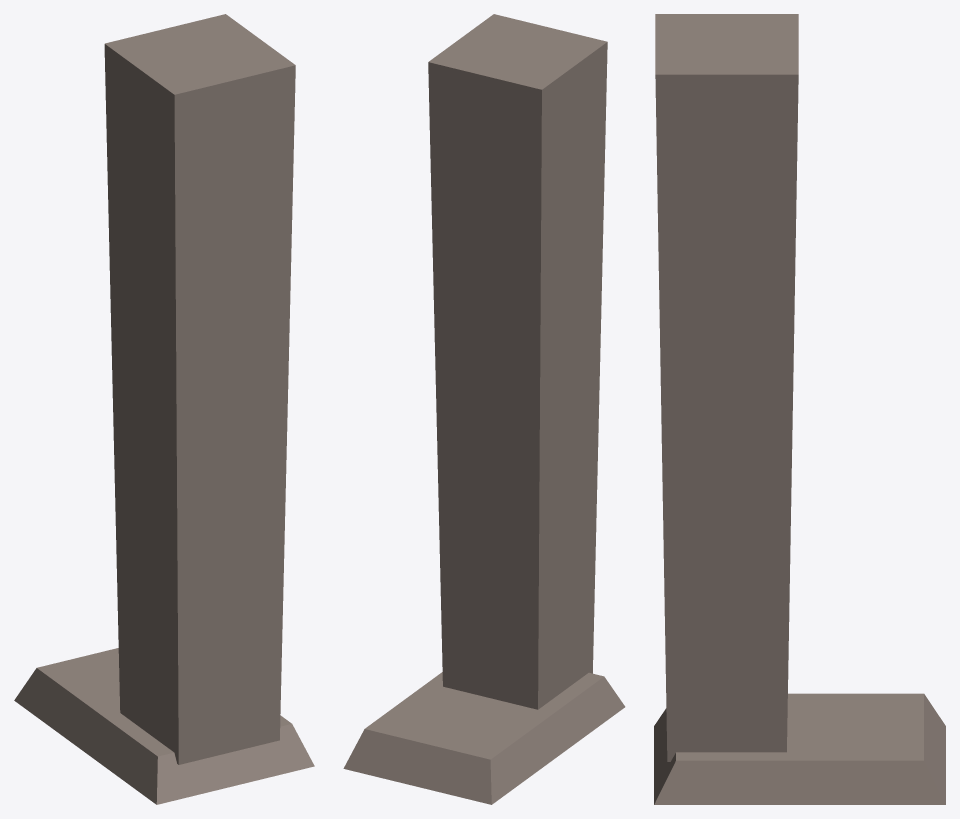
File: animal_vulture_leg.obj
The picture shows the model from 3 angles, left to right: view 1: azimuth 30°, elevation 25°; view 2: azimuth 150°, elevation 25°; view 3: azimuth 270°, elevation 25°; orthographic projection. The views are drawn at different scales.
Parts seen in each view (by area): view 1: animal_vulture_leg; view 2: animal_vulture_leg; view 3: animal_vulture_leg.
Boxes of the visible parts, x1=… form: animal_vulture_leg: x1=14, y1=14, x2=314, y2=804; animal_vulture_leg: x1=343, y1=14, x2=625, y2=804; animal_vulture_leg: x1=654, y1=14, x2=945, y2=804.
Bounding box in the file's own units: 0.0704 × 0.3 × 0.11.
